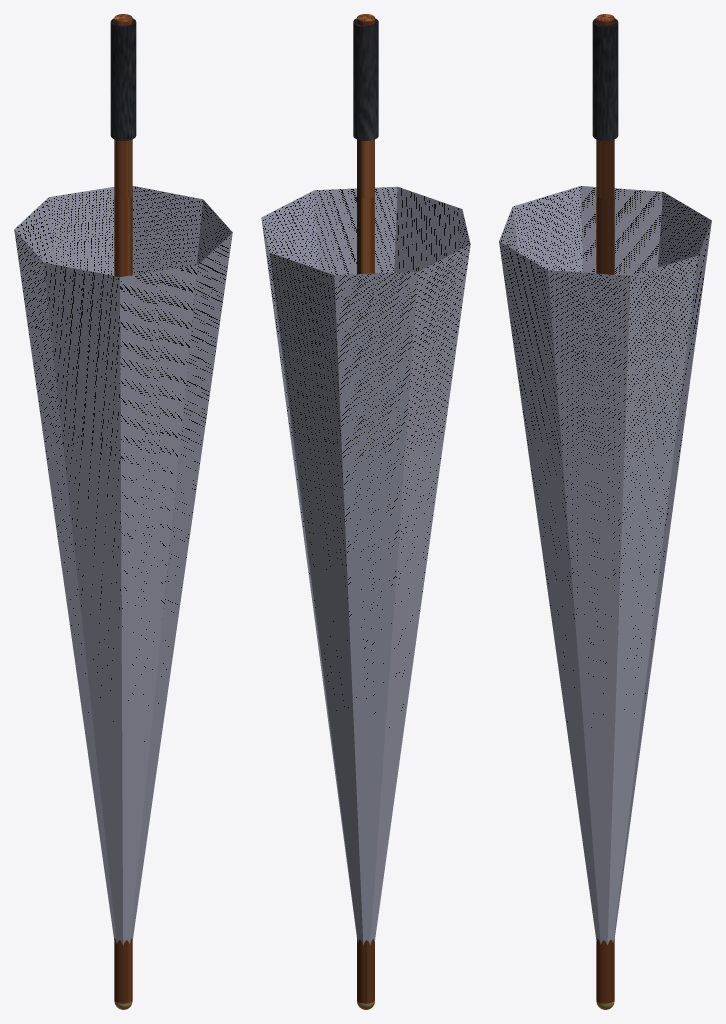
File: umbrella.glb
3 views of the same model, side by side, from view 1: azimuth 30°, elevation 25°; view 2: azimuth 150°, elevation 25°; view 3: azimuth 270°, elevation 25° (orthographic).
Visible parts, largest first — view 1: Cylinder.001; view 2: Cylinder.001; view 3: Cylinder.001.
Boxes of the visible parts, x1=… form: Cylinder.001: x1=14, y1=14, x2=232, y2=1009; Cylinder.001: x1=261, y1=14, x2=470, y2=1009; Cylinder.001: x1=499, y1=14, x2=711, y2=1009.
Size of the model in its own units: 0.5845 by 3 by 0.5845.
Materials: 4 (4 with a texture image).
